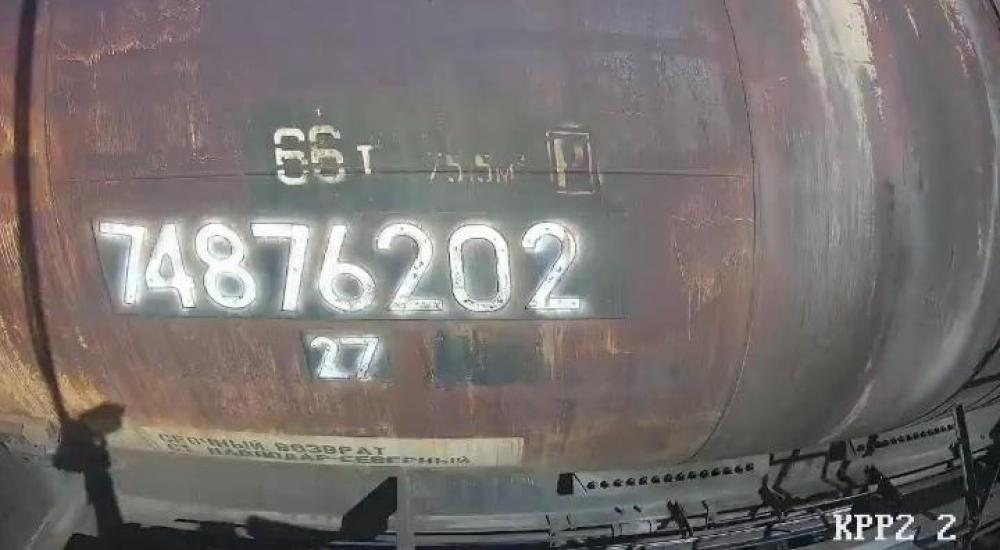Wagon-number: (92, 211, 596, 319)
